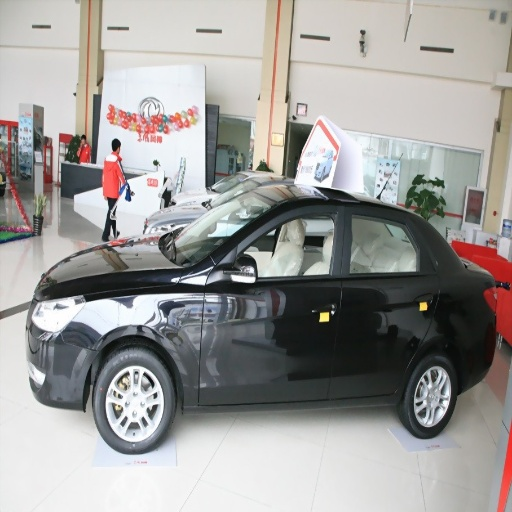back_left_door: (334, 202, 438, 398)
front_left_door: (202, 204, 342, 399)
trunk: (125, 294, 199, 373)
